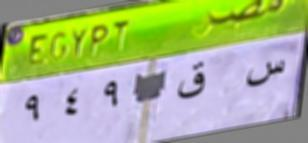4: (60, 83, 81, 122)
9: (20, 90, 44, 129), (101, 73, 122, 116)
qaaf: (174, 60, 209, 105)
seen: (240, 50, 286, 100)
